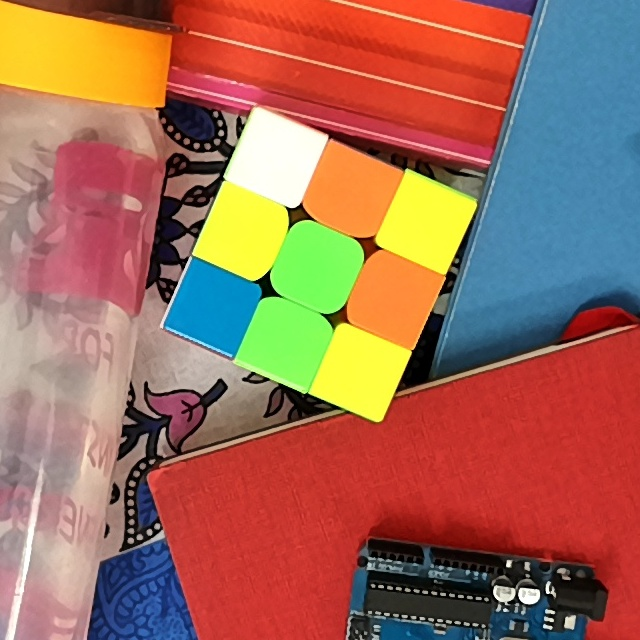tile: (320, 165, 379, 222), (249, 131, 306, 189), (217, 203, 272, 262), (289, 240, 346, 295), (364, 273, 420, 328), (185, 281, 241, 336), (333, 343, 387, 400), (400, 193, 452, 252), (257, 316, 315, 368)
